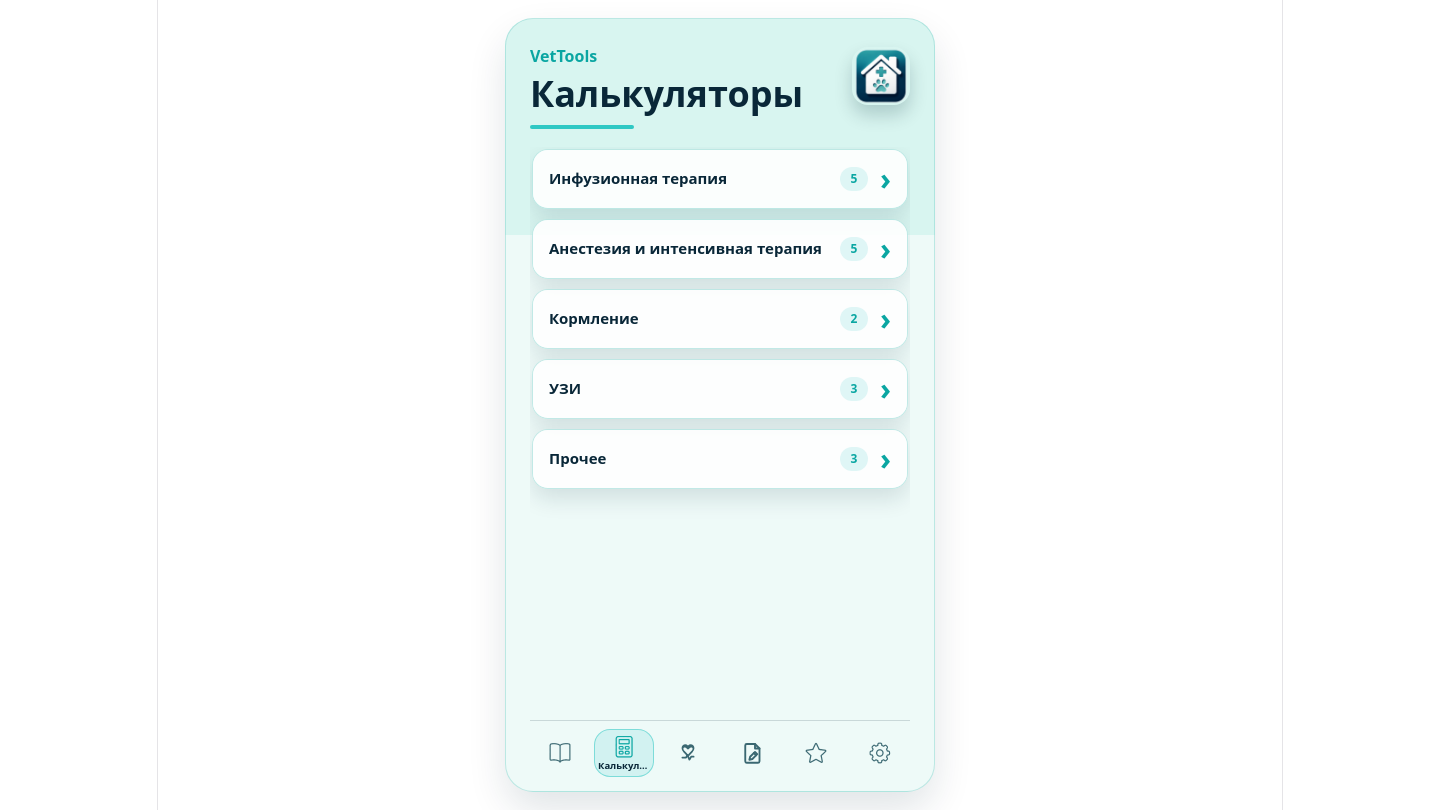
Test: App routes › opens settings from the home bottom navigation
Click the link named "Настройки".
click(880, 753)  # box x1=868 y1=741 x2=892 y2=765
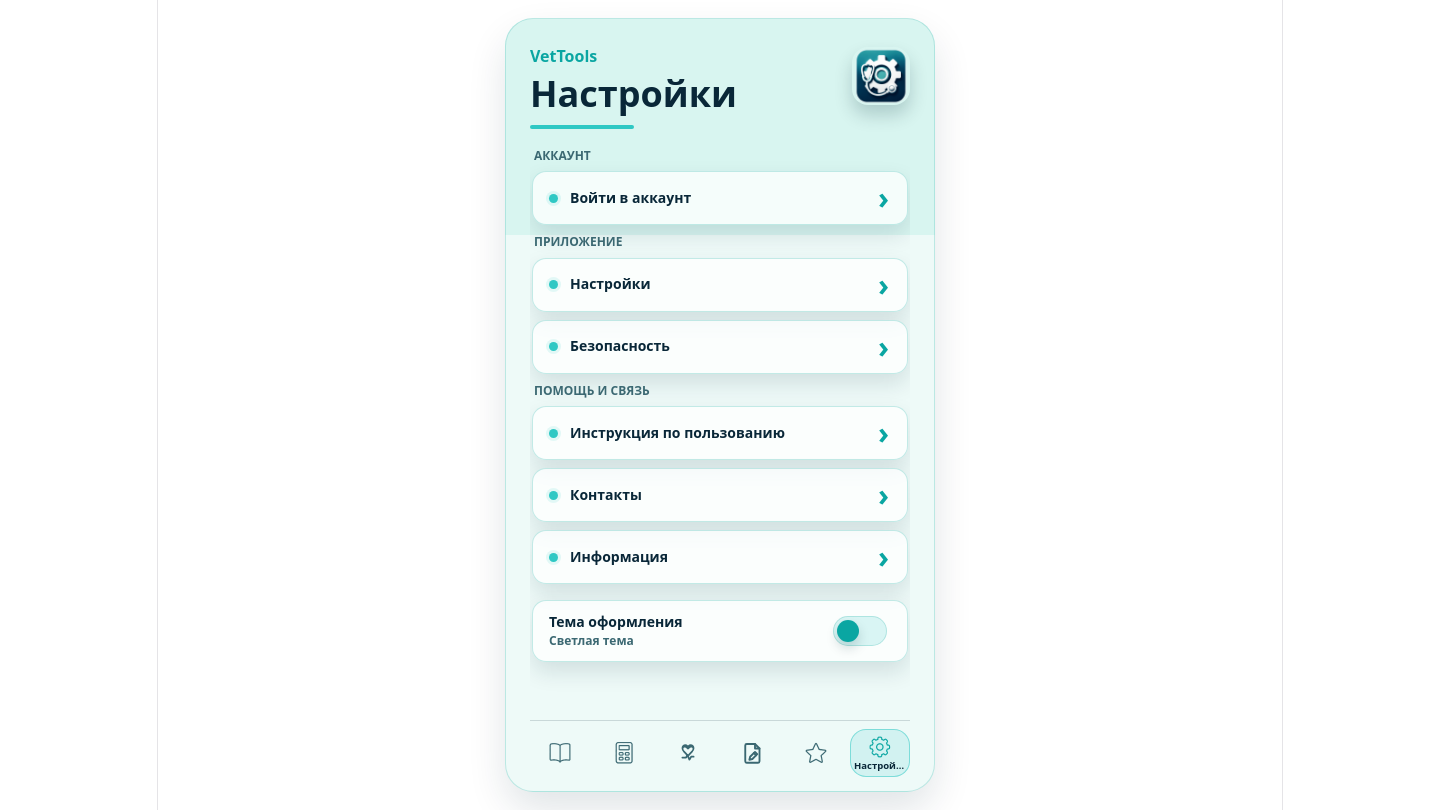
Result: the heading "Настройки" is shown at x1=530 y1=76 x2=737 y2=129
Result: the button "Войти в аккаунт ›" is shown at x1=532 y1=171 x2=908 y2=225
